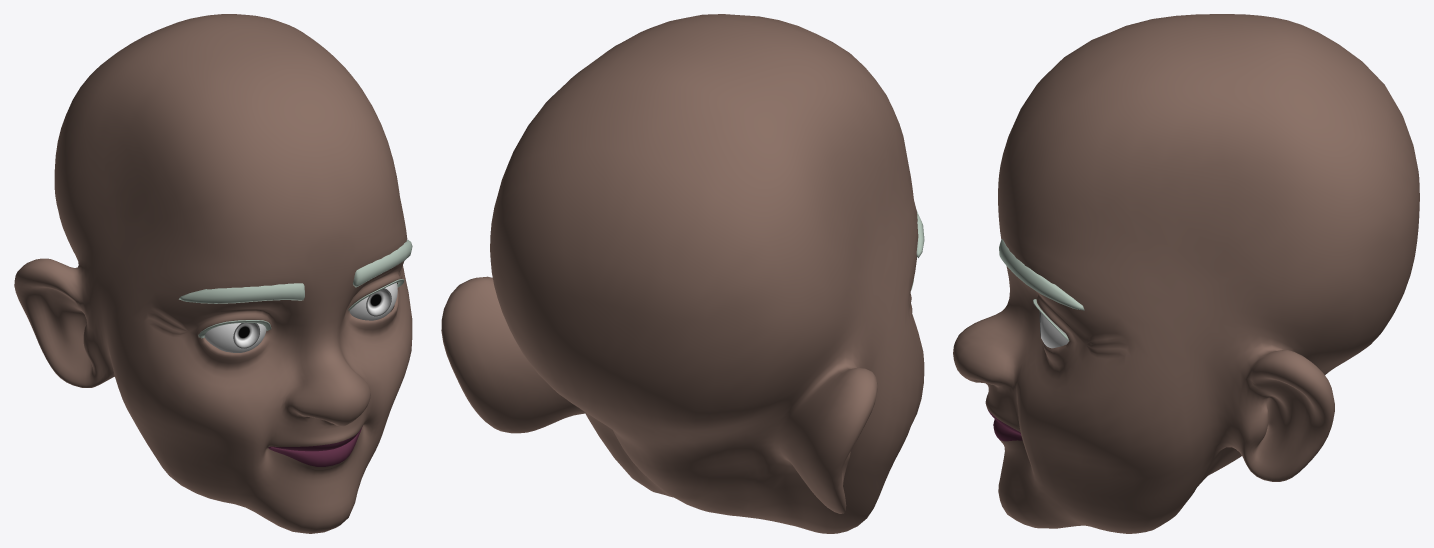
3 renders of one model, left to right at view 1: azimuth 30°, elevation 25°; view 2: azimuth 150°, elevation 25°; view 3: azimuth 270°, elevation 25°, orthographic. The views are drawn at different scales.
Visible parts, largest first — view 1: skin, brows, eyes, lashes; view 2: skin; view 3: skin, brows, eyes.
Part boxes in pixels (left/top/right/bottom): skin: left=14, top=14, right=412, bottom=533; brows: left=179, top=240, right=412, bottom=303; eyes: left=204, top=283, right=397, bottom=352; lashes: left=198, top=279, right=404, bottom=338; skin: left=441, top=14, right=924, bottom=533; skin: left=953, top=14, right=1419, bottom=533; brows: left=999, top=239, right=1084, bottom=310; eyes: left=1039, top=311, right=1068, bottom=348.
Size of the model in its own units: 1.69 by 2 by 1.74.
Materials: 10 (1 with a texture image).
